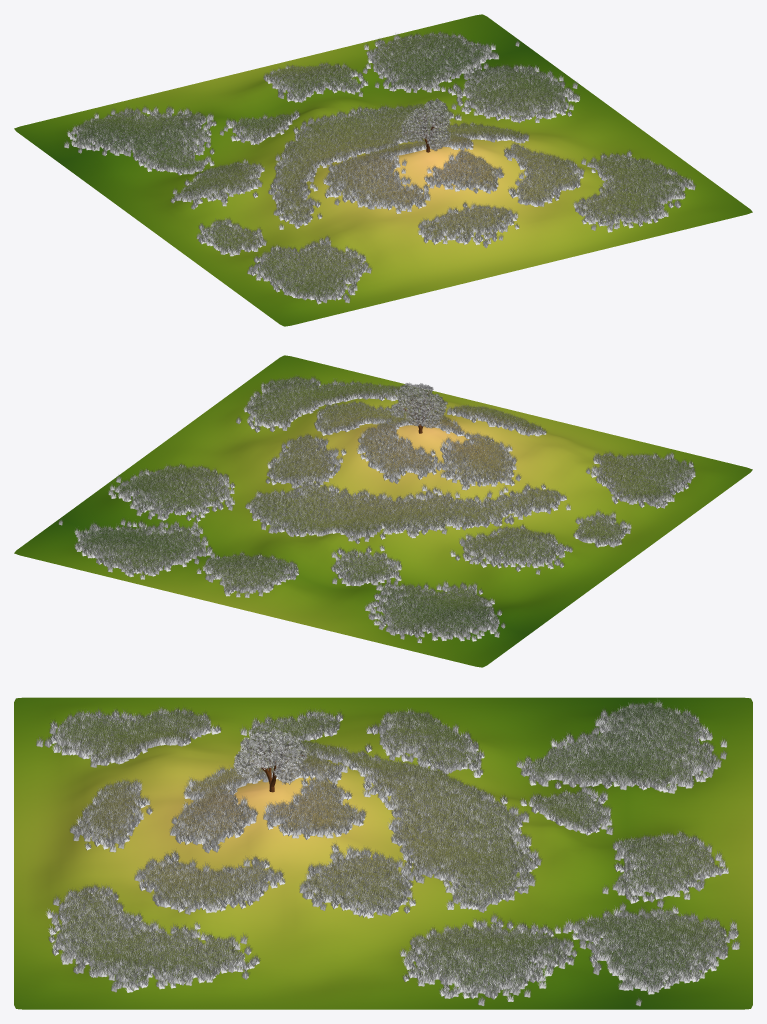
File: landscape-glb.glb
3 views of the same model, one above another, from view 1: azimuth 30°, elevation 25°; view 2: azimuth 150°, elevation 25°; view 3: azimuth 270°, elevation 25° (orthographic). The views are drawn at different scales.
Parts seen in each view (by area): view 1: Landscape Pronto 2.002 ✅, NOVA COPA Esfera.001, NOVA COPA Esfera.002; view 2: Landscape Pronto 2.002 ✅, NOVA COPA Esfera.001, NOVA COPA Esfera.002; view 3: Landscape Pronto 2.002 ✅, NOVA COPA Esfera.002.
Boxes of the visible parts, left/top/right/bottom form: Landscape Pronto 2.002 ✅: left=14, top=14, right=752, bottom=326; NOVA COPA Esfera.001: left=400, top=106, right=431, bottom=142; NOVA COPA Esfera.002: left=423, top=98, right=450, bottom=129; Landscape Pronto 2.002 ✅: left=14, top=355, right=752, bottom=667; NOVA COPA Esfera.001: left=405, top=393, right=447, bottom=428; NOVA COPA Esfera.002: left=397, top=382, right=433, bottom=408; Landscape Pronto 2.002 ✅: left=14, top=697, right=752, bottom=1009; NOVA COPA Esfera.002: left=240, top=730, right=298, bottom=769.
Bounding box in the file's own units: 60 × 12.84 × 60.
Materials: 4 (3 with a texture image).
